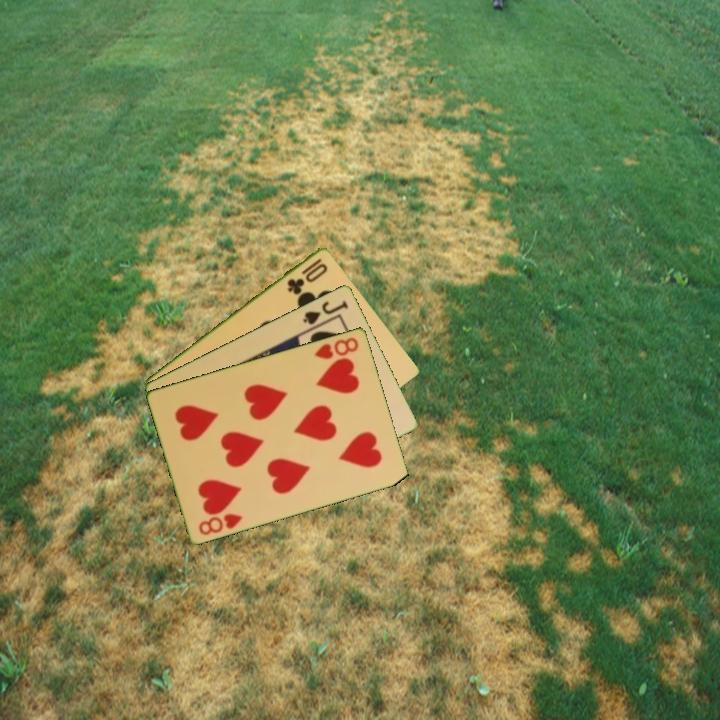10c: (283, 254, 331, 297)
8h: (311, 333, 362, 362), (195, 509, 246, 538)
Js: (299, 296, 351, 327)
